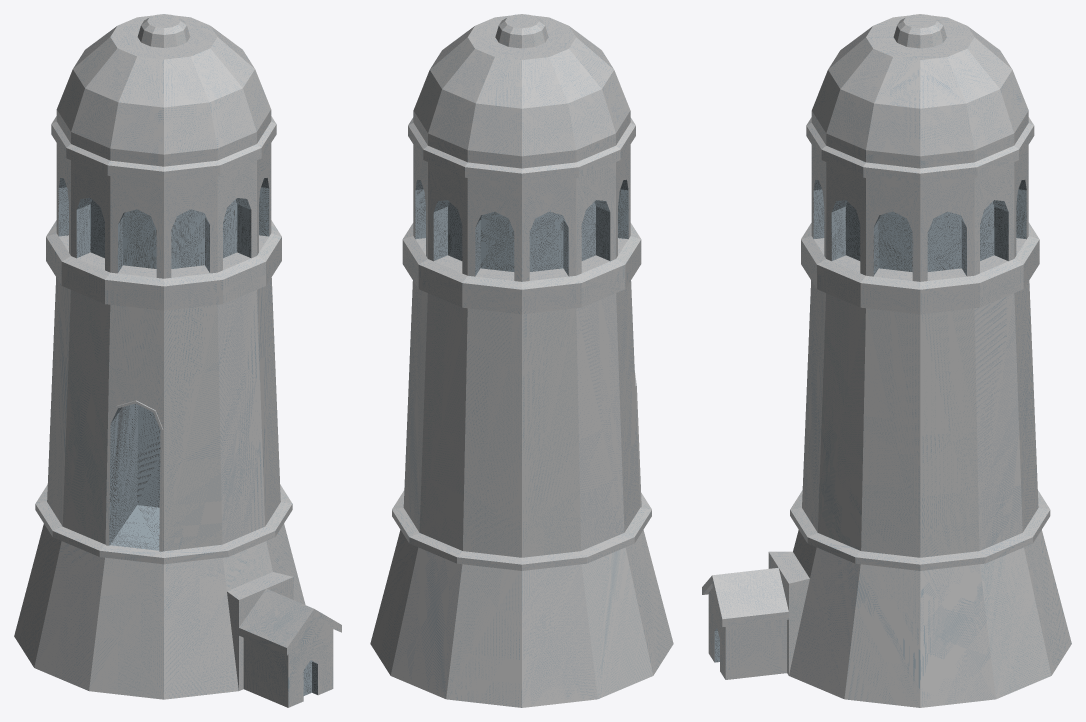
File: Building_Tower_Ancient_01.fbx
3 views of the same model, side by side, from view 1: azimuth 30°, elevation 25°; view 2: azimuth 150°, elevation 25°; view 3: azimuth 270°, elevation 25° (orthographic).
Visible parts, largest first — view 1: Model; view 2: Model; view 3: Model.
Boxes of the visible parts, left/top/right/bottom form: Model: left=14, top=14, right=341, bottom=707; Model: left=370, top=14, right=673, bottom=707; Model: left=702, top=14, right=1071, bottom=707.
Bounding box in the file's own units: 2995 × 6784 × 3652.
